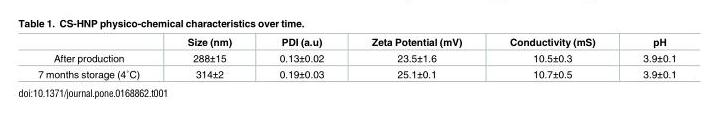table: (37, 37, 675, 79)
table column: (347, 37, 485, 79), (485, 37, 618, 79), (37, 37, 162, 79), (254, 37, 347, 79), (162, 37, 254, 79), (618, 37, 675, 79)
table column header: (37, 37, 675, 49)
table row: (37, 49, 675, 65), (37, 65, 675, 79), (37, 37, 675, 49)
